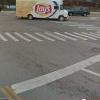Crosswalk: (5, 20, 96, 51)
